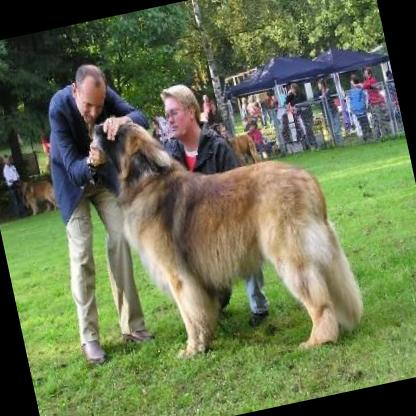Leonberg: (85, 73, 368, 385), (7, 164, 63, 221)
